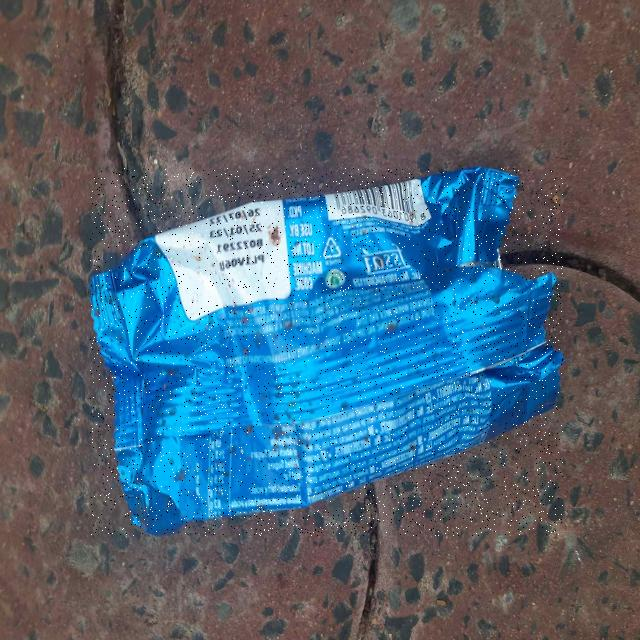wrapper: (90, 168, 563, 536)
